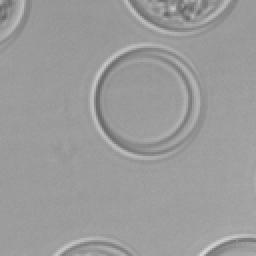picoshell: (90, 42, 200, 158), (122, 0, 234, 34), (54, 236, 132, 254), (198, 234, 254, 254)
